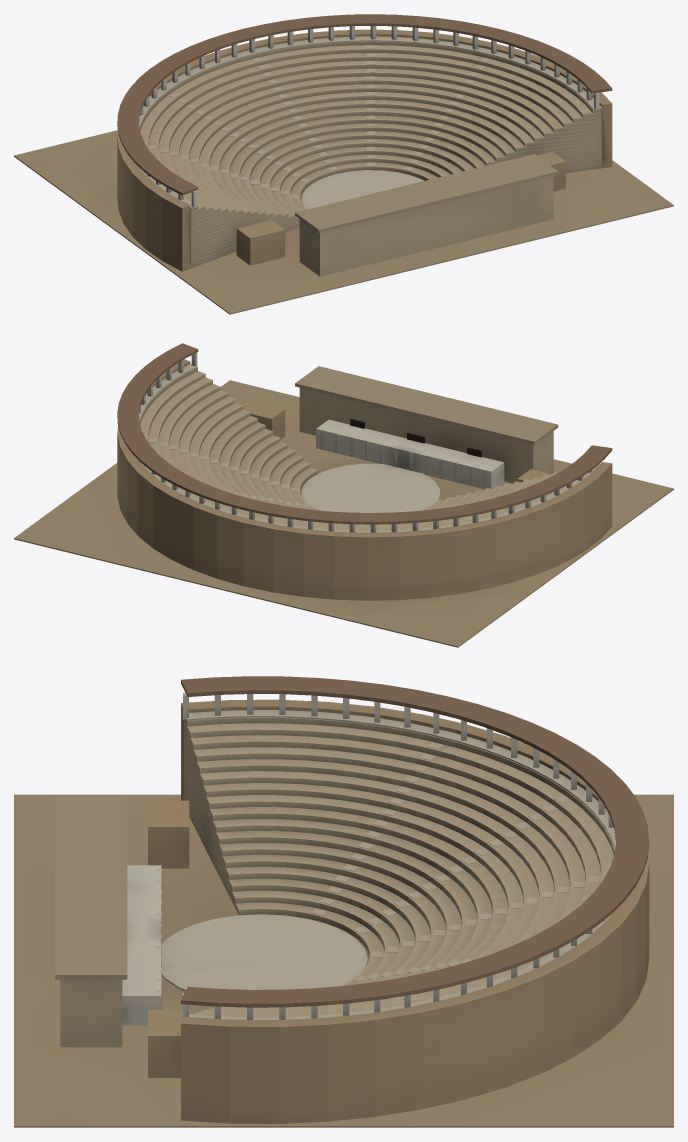
Rendered from theatre.glb.
3 renders of one model, top to bottom at view 1: azimuth 30°, elevation 25°; view 2: azimuth 150°, elevation 25°; view 3: azimuth 270°, elevation 25°, orthographic. The views are drawn at different scales.
Visible parts, largest first — view 1: p0_cavea, p1_stage; view 2: p0_cavea, p1_stage; view 3: p0_cavea, p1_stage.
Part boxes in pixels (left/top/right/bottom): p0_cavea: left=14, top=29, right=673, bottom=314; p1_stage: left=117, top=14, right=612, bottom=276; p0_cavea: left=14, top=359, right=673, bottom=647; p1_stage: left=117, top=343, right=612, bottom=532; p0_cavea: left=14, top=699, right=673, bottom=1127; p1_stage: left=55, top=676, right=649, bottom=1077.
Bounding box in the file's own units: 76 × 13.06 × 64.
